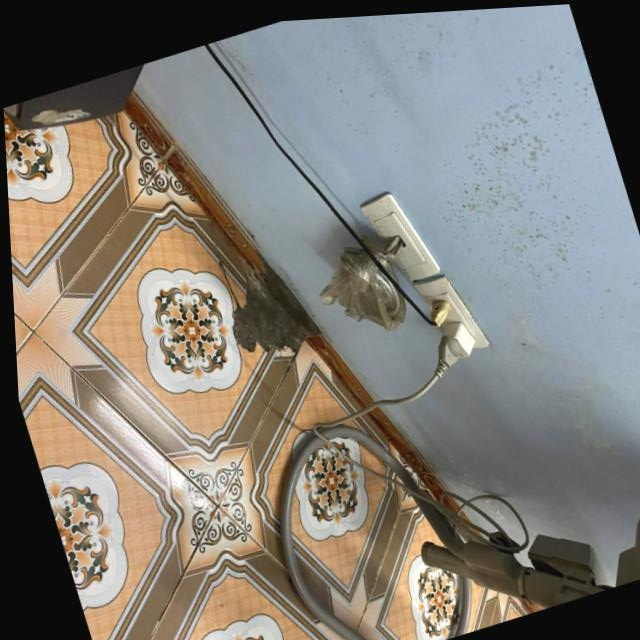outlet: (413, 265, 493, 365)
